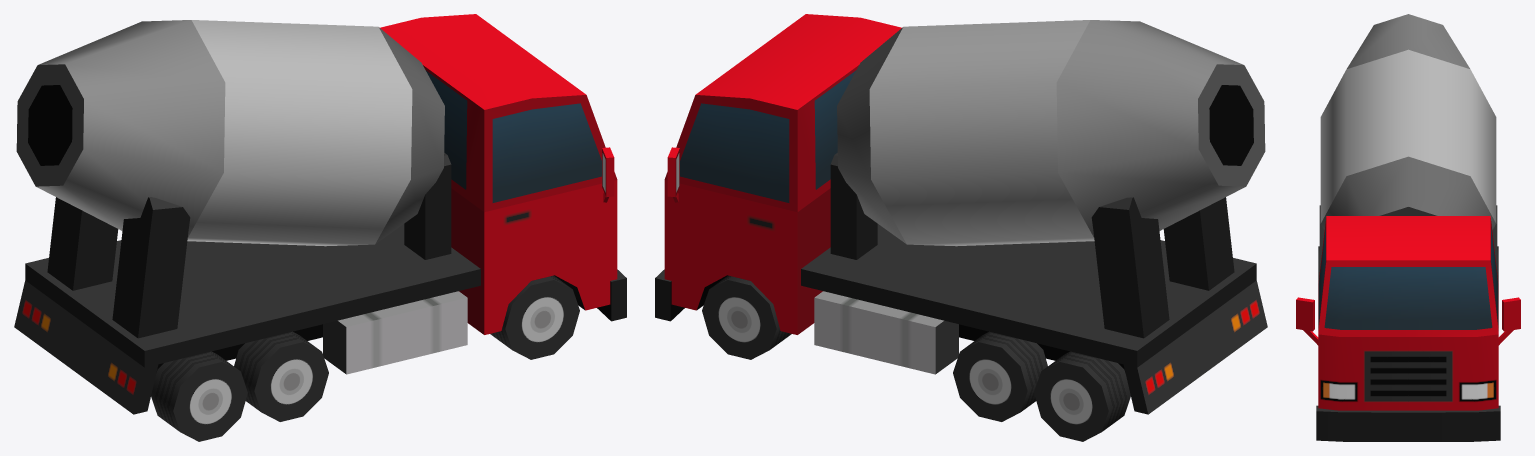
Rendered from Construction_004.glb.
3 renders of one model, left to right at view 1: azimuth 30°, elevation 25°; view 2: azimuth 150°, elevation 25°; view 3: azimuth 270°, elevation 25°, orthographic. The views are drawn at different scales.
Parts seen in each view (by area): view 1: Construction_004, wheel_5_Construction_004_Wheel_3R, wheel_3_Construction_004_Wheel_2R, wheel_1_Construction_004_Wheel_1R; view 2: Construction_004, wheel_4_Construction_004_Wheel_3L, wheel_2_Construction_004_Wheel_2L, wheel_0_Construction_004_Wheel_1L; view 3: Construction_004.
Part boxes in pixels (x1,y1,x2,y2): Construction_004: (14,14,626,414); wheel_5_Construction_004_Wheel_3R: (151,351,247,441); wheel_3_Construction_004_Wheel_2R: (234,331,328,421); wheel_1_Construction_004_Wheel_1R: (490,275,579,359); Construction_004: (655,14,1267,414); wheel_4_Construction_004_Wheel_3L: (1034,351,1130,441); wheel_2_Construction_004_Wheel_2L: (953,331,1047,421); wheel_0_Construction_004_Wheel_1L: (702,275,791,359); Construction_004: (1296,14,1520,441).
Bounding box in the file's own units: 4.96 × 3.25 × 2.44.
1 material, 1 textured.
